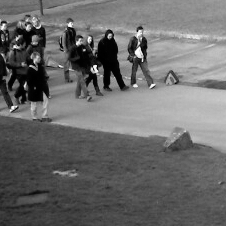person: (98, 29, 127, 90), (127, 25, 155, 88), (28, 49, 51, 122), (71, 34, 90, 101), (85, 33, 104, 96), (11, 38, 28, 104), (1, 47, 18, 112), (62, 16, 78, 85), (34, 19, 45, 47), (12, 19, 27, 38), (1, 20, 10, 48), (30, 35, 44, 52), (23, 22, 32, 38), (24, 13, 33, 27)
